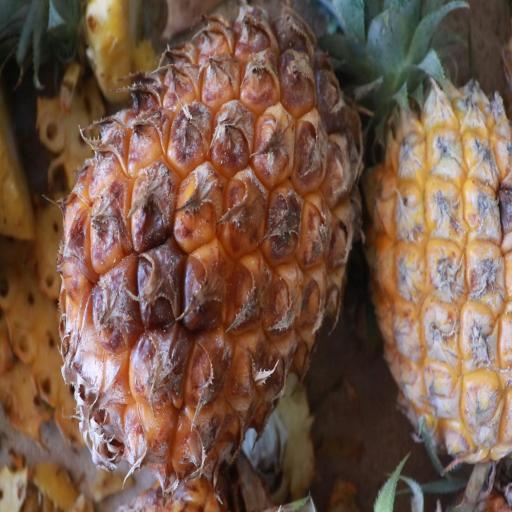Pineapple - v8 v1: (51, 0, 364, 488), (359, 2, 512, 480)
